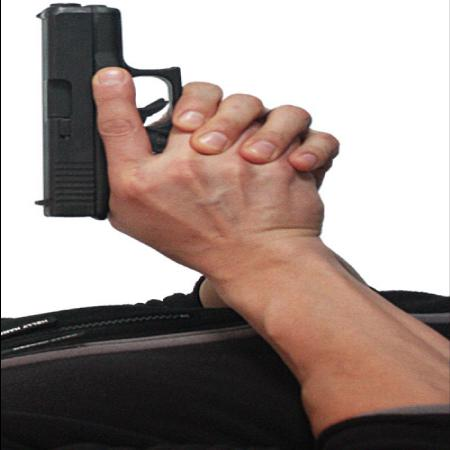Pistol: (26, 4, 180, 223)
